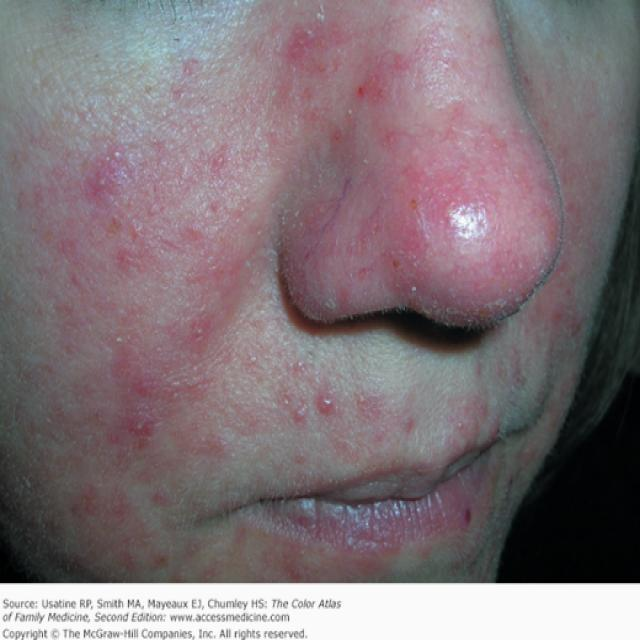Rosacea: (34, 6, 591, 580)
